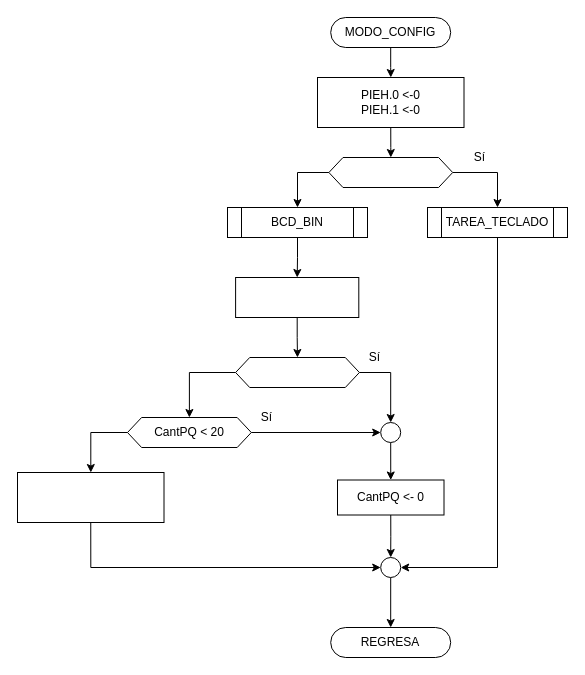
This 585x675 diagram has some shape labels left out. Each missing label, with the centre of its shape:
BANDERAS.2 <- 0: point 297,297
BANDERAS.2 = 0: point 390,172
BIN1 <- (CantPQ) BIN2 <- 0: point 90,497
CantPQ > 90: point 297,372
